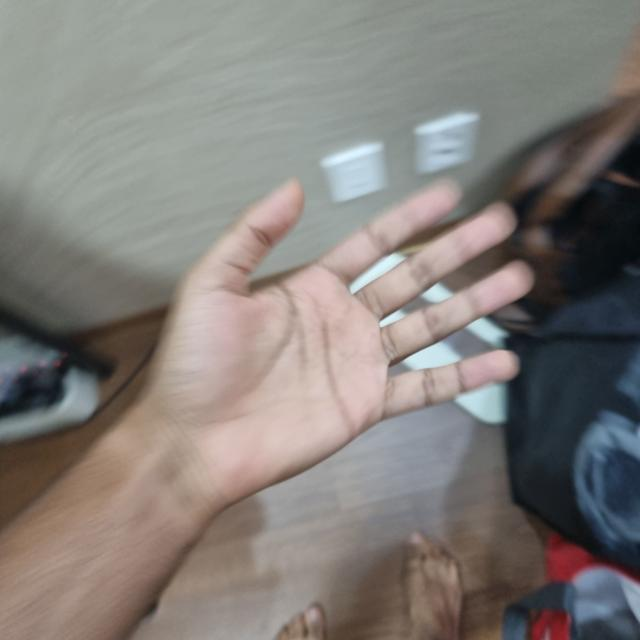Paper: (114, 178, 529, 510)
